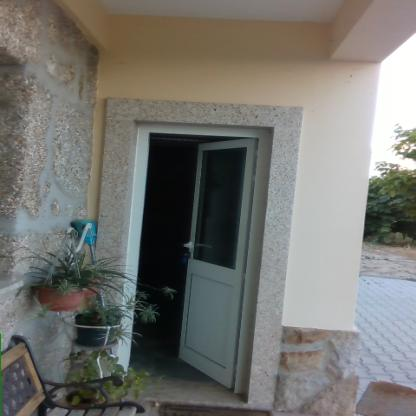semi: (117, 114, 285, 392)
